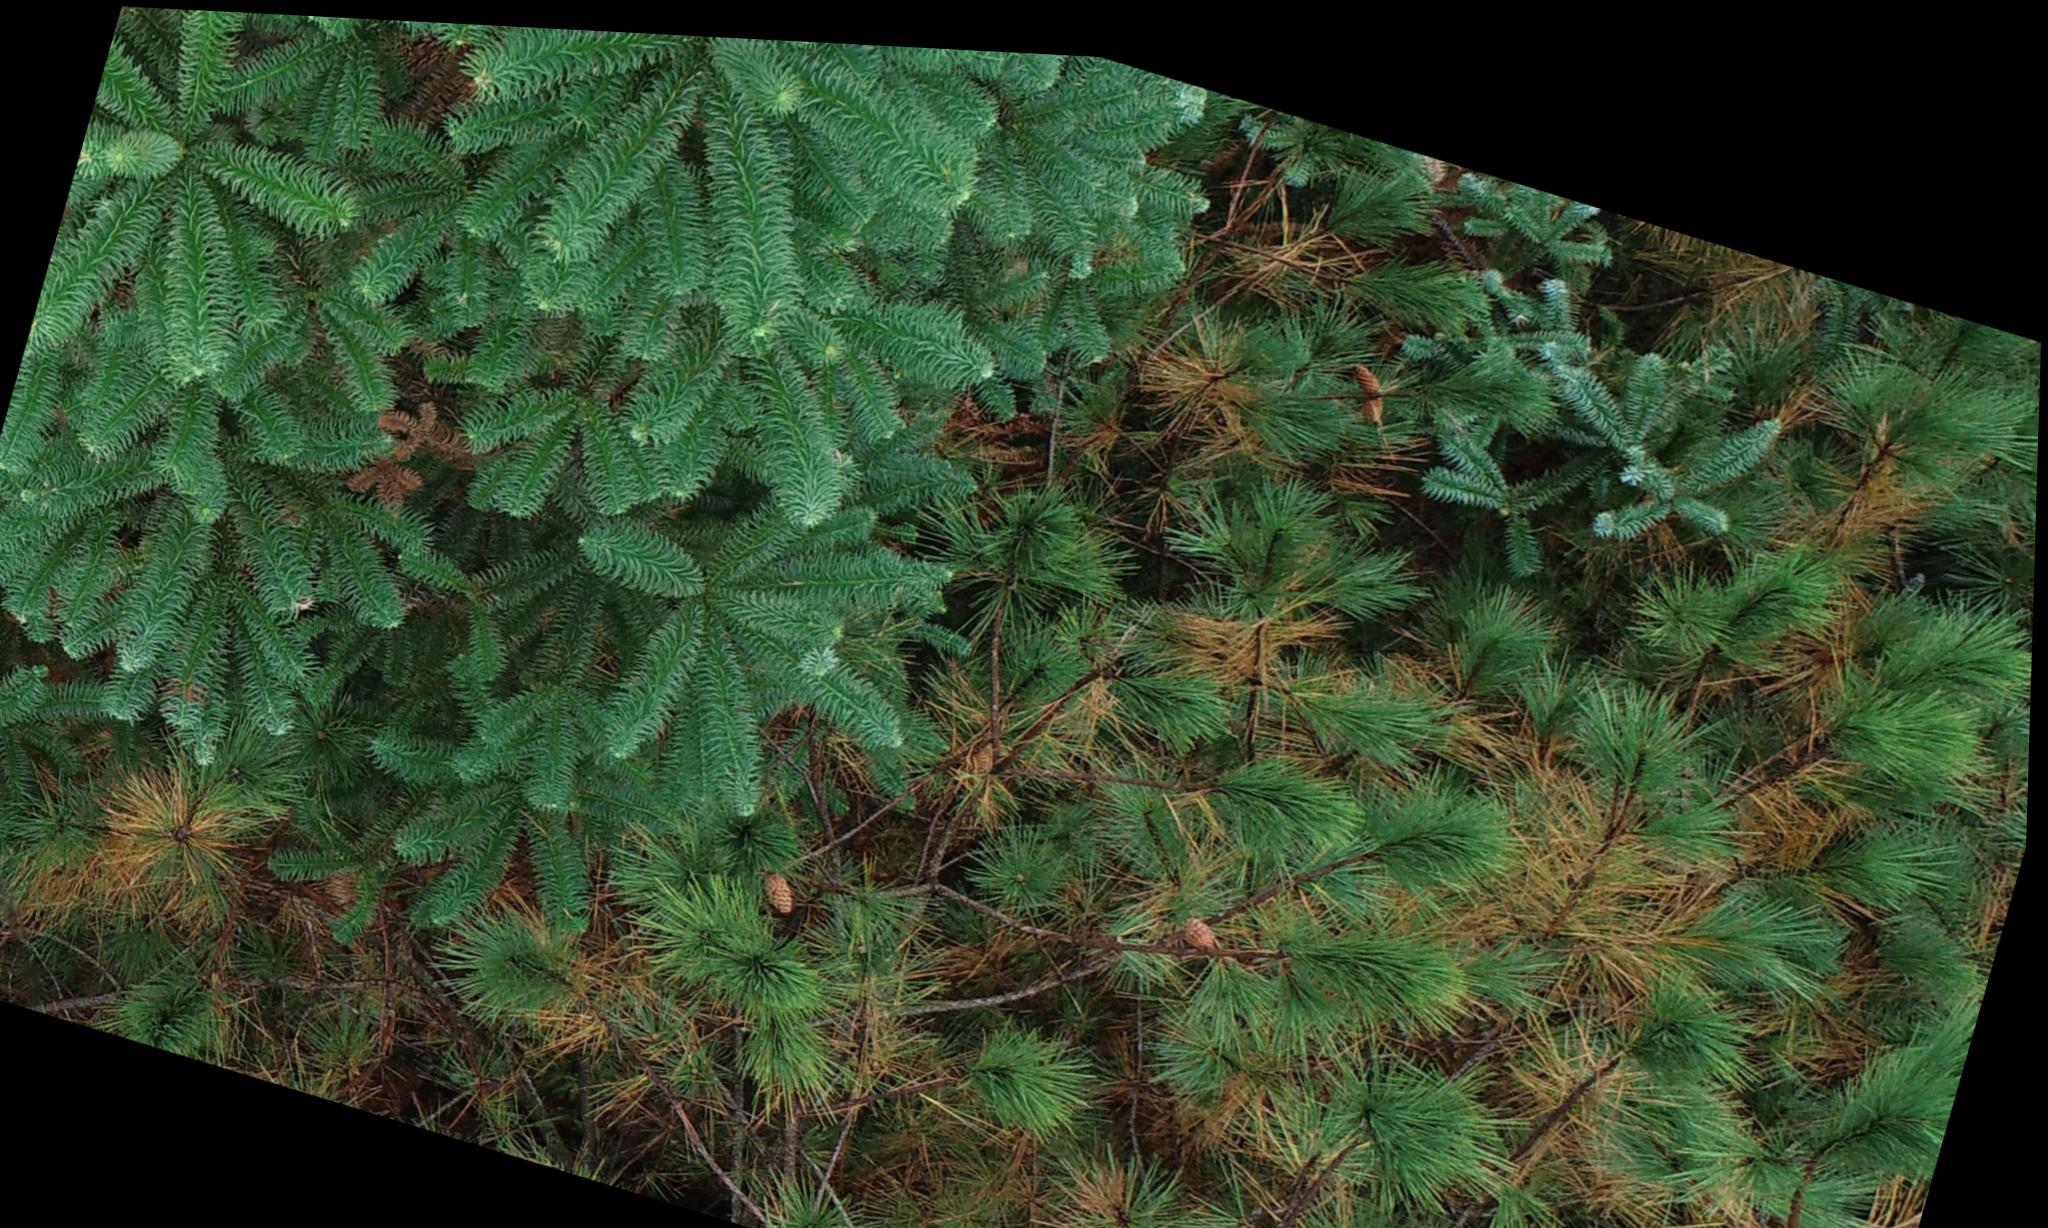heavy: (782, 83, 2047, 1228), (0, 690, 763, 1181)
